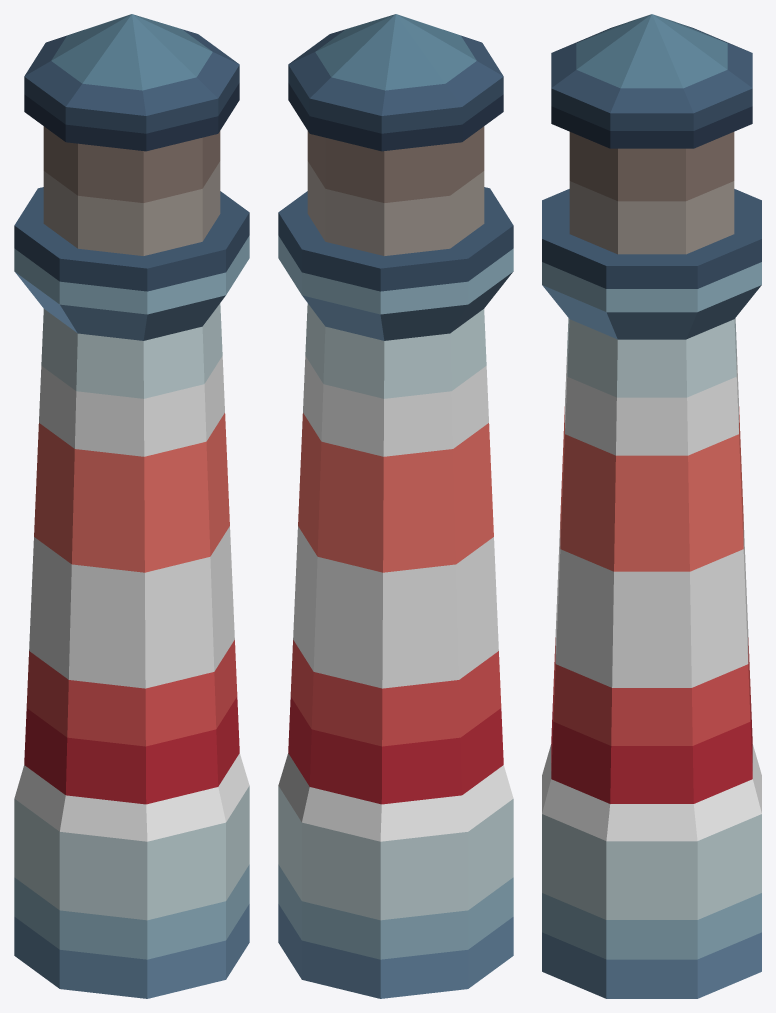
Rendered from lighthouse1.fbx.
3 renders of one model, left to right at view 1: azimuth 30°, elevation 25°; view 2: azimuth 150°, elevation 25°; view 3: azimuth 270°, elevation 25°, orthographic.
Visible parts, largest first — view 1: lighthouse; view 2: lighthouse; view 3: lighthouse.
Boxes of the visible parts, x1=… form: lighthouse: x1=14, y1=14, x2=249, y2=998; lighthouse: x1=278, y1=14, x2=513, y2=998; lighthouse: x1=542, y1=14, x2=761, y2=998.
Size of the model in its own units: 150 by 706 by 150.
1 material, 1 textured.
